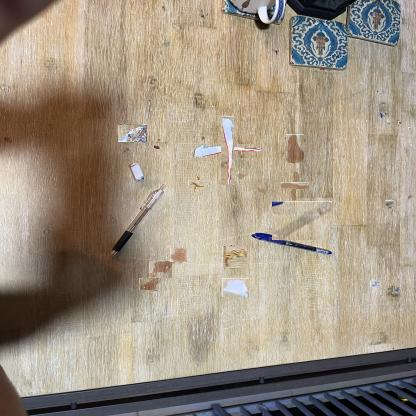dirty: (272, 201, 332, 240), (207, 130, 248, 172), (223, 246, 247, 269), (117, 124, 147, 142), (222, 278, 249, 297), (191, 177, 204, 190)
liquid: (286, 134, 304, 163), (148, 260, 172, 278), (287, 177, 304, 195), (139, 278, 159, 290), (170, 248, 187, 262)
mark: (385, 200, 394, 208), (370, 281, 379, 287), (394, 287, 400, 293), (153, 146, 161, 150), (380, 113, 386, 118), (386, 122, 391, 126), (380, 295, 384, 299), (398, 120, 401, 124), (408, 127, 411, 130)
